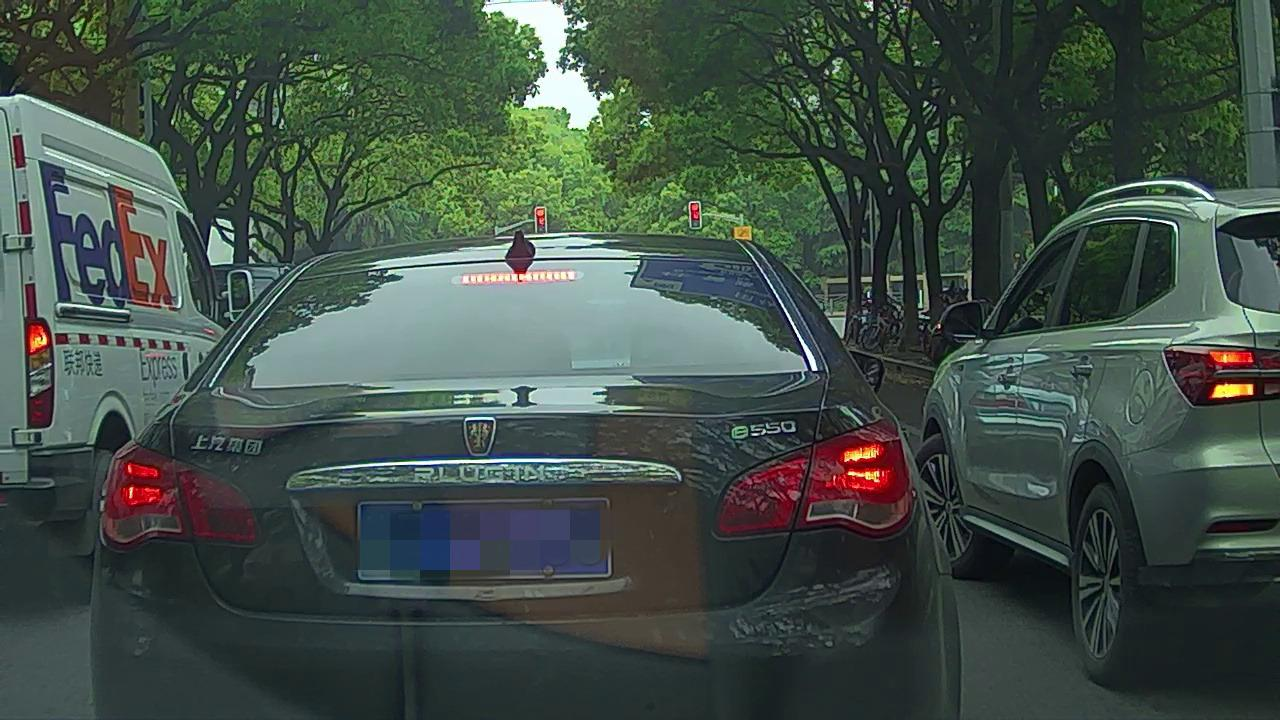traffic_light: (689, 202, 701, 228), (535, 207, 546, 233)
